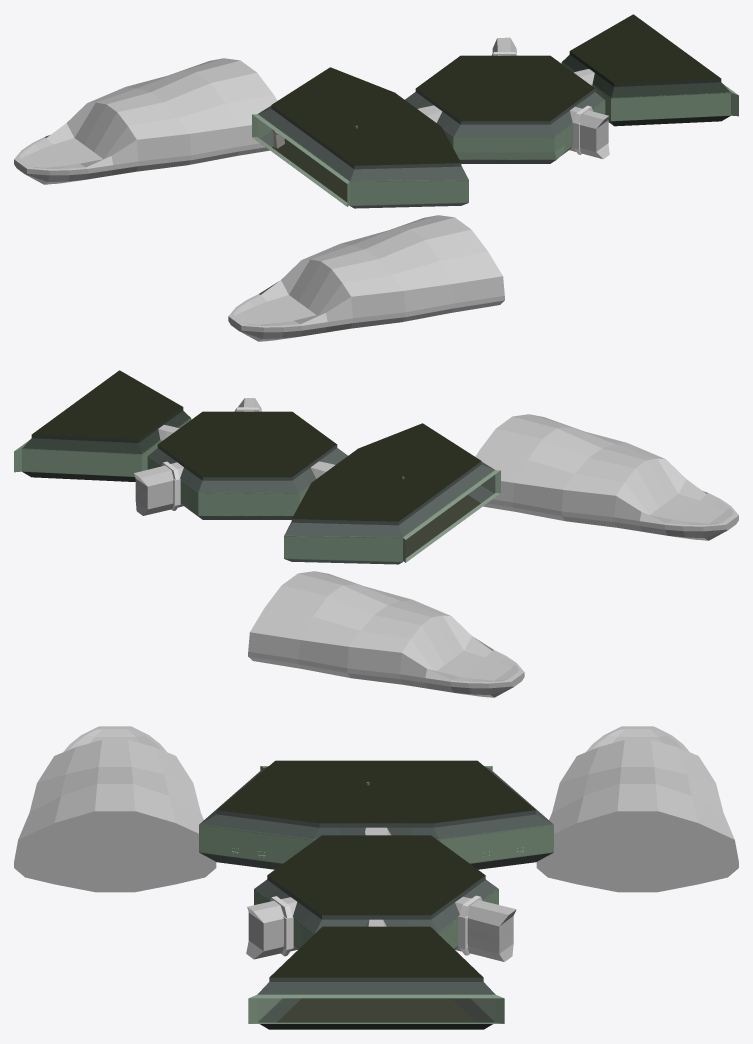
Rendered from Korabl.fbx.
3 views of the same model, one above another, from view 1: azimuth 30°, elevation 25°; view 2: azimuth 150°, elevation 25°; view 3: azimuth 270°, elevation 25° (orthographic). The views are drawn at different scales.
Parts seen in each view (by area): view 1: Spaceship, Cube, WindowCommand; view 2: Spaceship, Cube, WindowCommand; view 3: Spaceship, Cube, WindowReactor, Door.001, Door.
Boxes of the visible parts, left/top/right/bottom form: Spaceship: left=252, top=14, right=738, bottom=208; Cube: left=14, top=58, right=504, bottom=341; WindowCommand: left=252, top=115, right=346, bottom=203; Spaceship: left=14, top=370, right=500, bottom=564; Cube: left=248, top=414, right=738, bottom=697; WindowCommand: left=406, top=471, right=500, bottom=561; Spaceship: left=199, top=760, right=553, bottom=1029; Cube: left=14, top=726, right=738, bottom=892; WindowReactor: left=258, top=999, right=494, bottom=1021; Door.001: left=270, top=896, right=293, bottom=956; Door: left=458, top=895, right=482, bottom=955.
Size of the model in its own units: 3283 by 498 by 3028.
